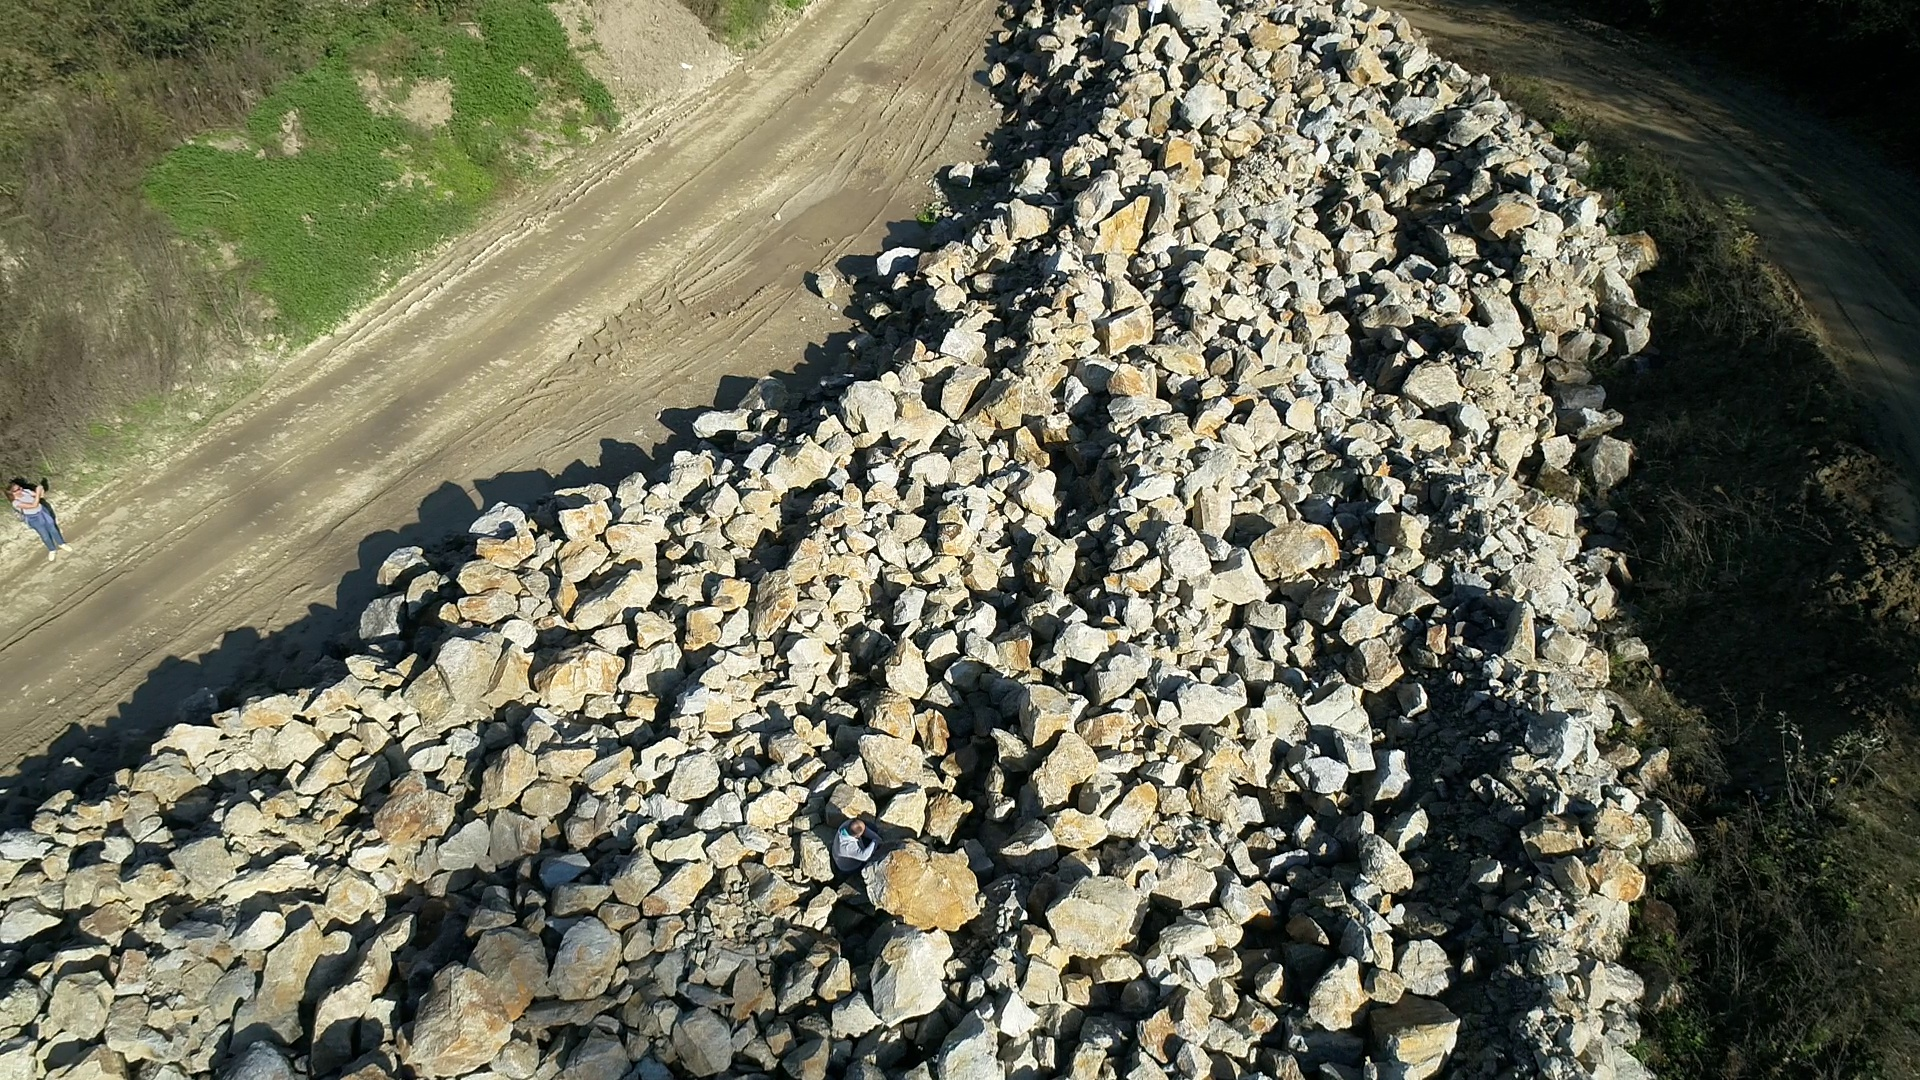not_defined: (1144, 1, 1164, 31)
person: (3, 480, 72, 561), (830, 817, 883, 875)
